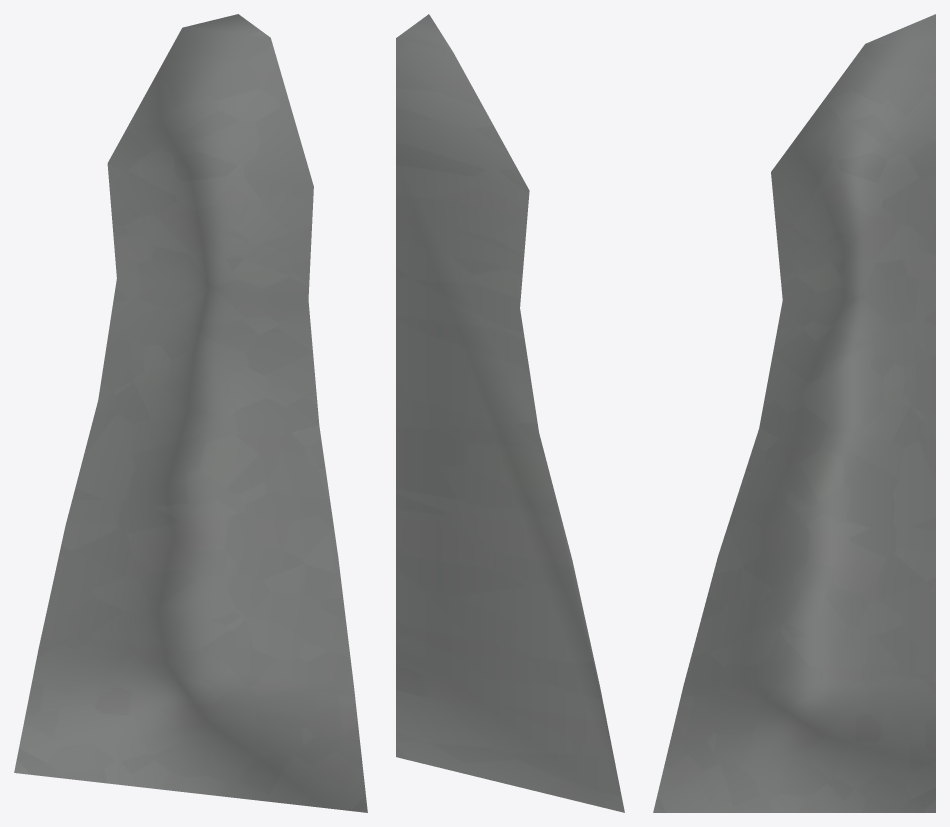
Rendered from cornerExt.glb.
3 renders of one model, left to right at view 1: azimuth 30°, elevation 25°; view 2: azimuth 150°, elevation 25°; view 3: azimuth 270°, elevation 25°, orthographic. The views are drawn at different scales.
Parts seen in each view (by area): view 1: CornerInt; view 2: CornerInt; view 3: CornerInt.
Part boxes in pixels (bbox=[...]): CornerInt: bbox=[14, 14, 367, 812]; CornerInt: bbox=[396, 14, 624, 812]; CornerInt: bbox=[653, 14, 935, 812].
Bounding box in the file's own units: 2 × 6 × 2.
1 material, 1 textured.
